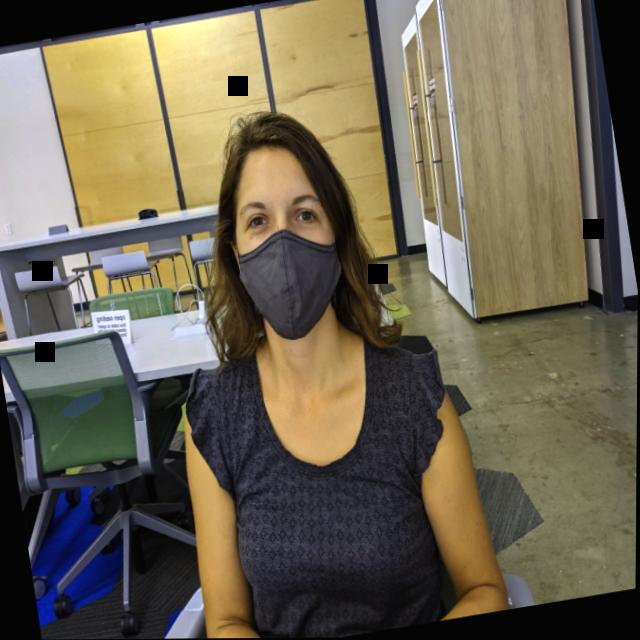Mask: (220, 153, 355, 350)
